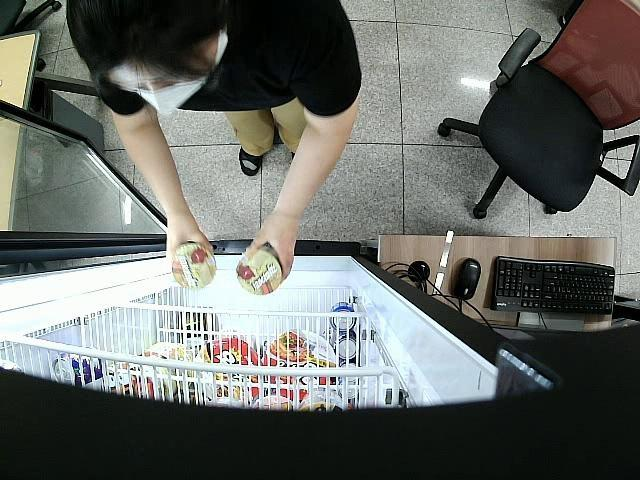04_chapagetti_S: (236, 246, 282, 295), (172, 241, 216, 290)
